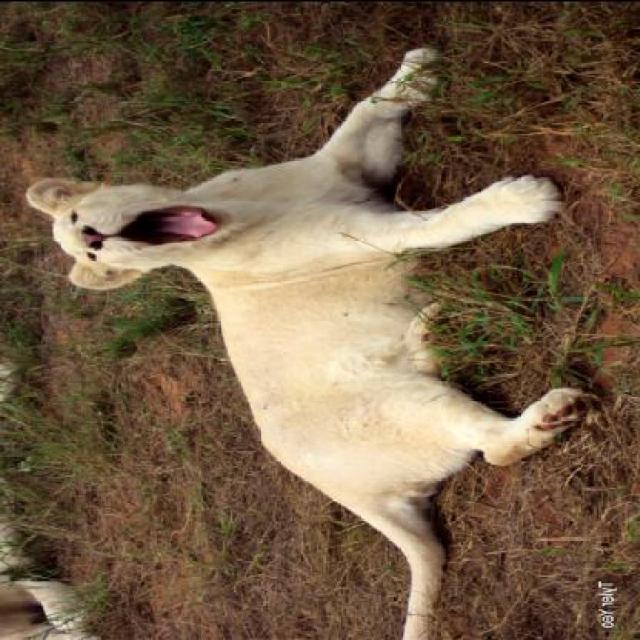Lion: (19, 36, 638, 638)
